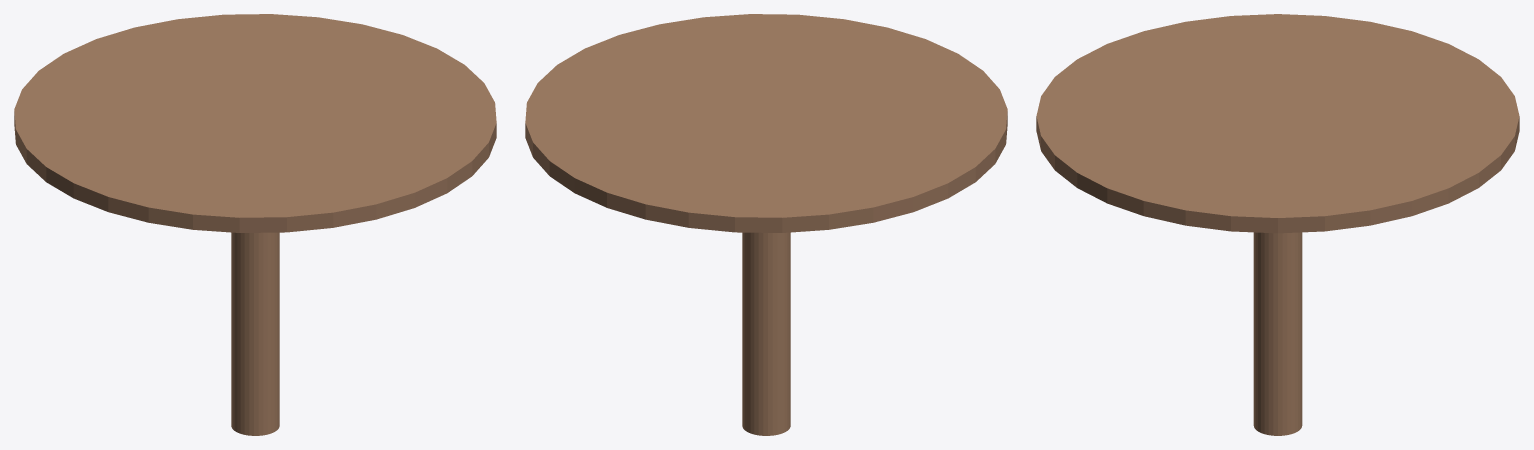
Rendered from table2.fbx.
3 renders of one model, left to right at view 1: azimuth 30°, elevation 25°; view 2: azimuth 150°, elevation 25°; view 3: azimuth 270°, elevation 25°, orthographic.
Visible parts, largest first — view 1: Circle; view 2: Circle; view 3: Circle.
Part boxes in pixels (left/top/right/bottom): Circle: left=14, top=14, right=496, bottom=435; Circle: left=525, top=14, right=1007, bottom=435; Circle: left=1036, top=14, right=1519, bottom=435.
Size of the model in its own units: 916 by 648 by 916.
